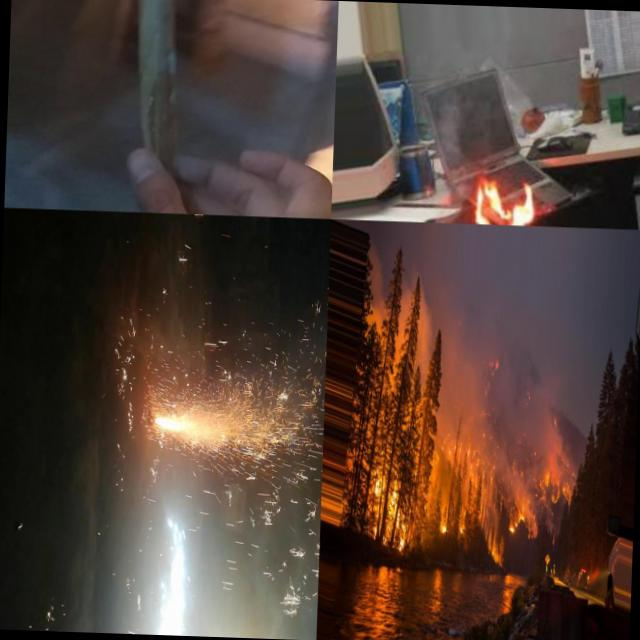fire: (208, 256, 270, 624), (433, 467, 574, 518), (357, 452, 414, 546), (468, 171, 542, 226), (484, 516, 537, 570), (436, 512, 464, 542)
smoke: (441, 293, 577, 467), (361, 248, 448, 374), (412, 82, 470, 204)
